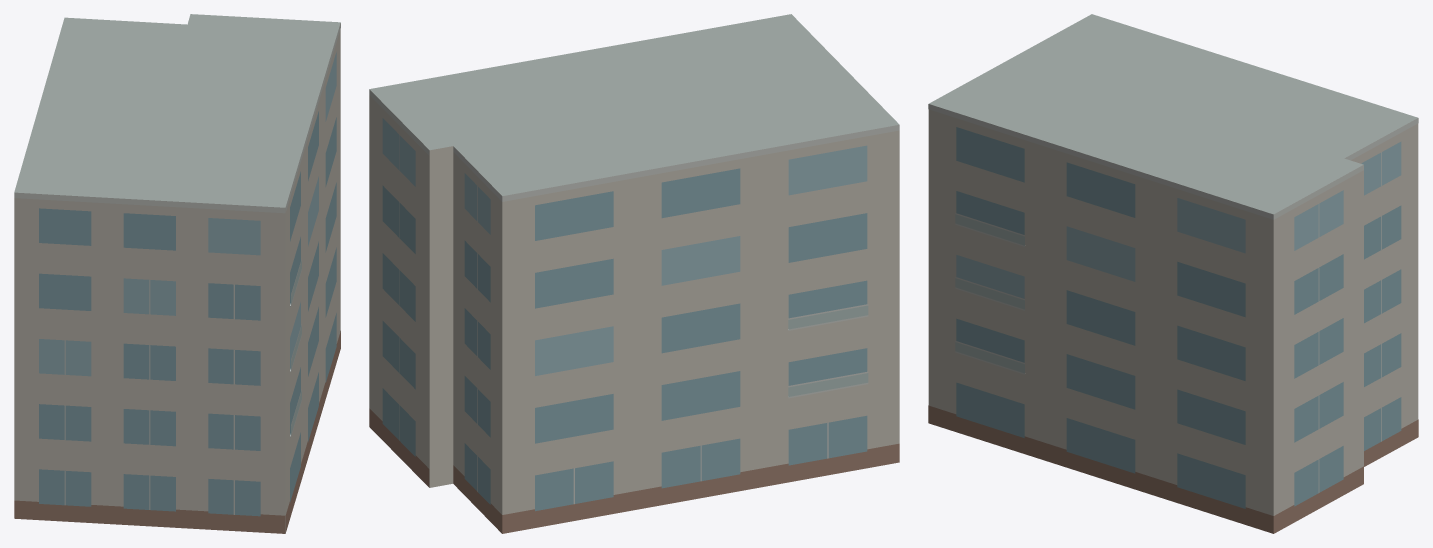
The model's file is survey-upis-32872021.glb.
The picture shows the model from 3 angles, left to right: view 1: azimuth 30°, elevation 25°; view 2: azimuth 150°, elevation 25°; view 3: azimuth 270°, elevation 25°; orthographic projection. The views are drawn at different scales.
Parts seen in each view (by area): view 1: survey-upis-32872021.tmp; view 2: survey-upis-32872021.tmp; view 3: survey-upis-32872021.tmp.
Boxes of the visible parts, <box> form: survey-upis-32872021.tmp: <box>14,14,340,533</box>; survey-upis-32872021.tmp: <box>369,14,899,533</box>; survey-upis-32872021.tmp: <box>928,14,1418,533</box>.
Bounding box in the file's own units: 19.32 × 14.35 × 19.96.
